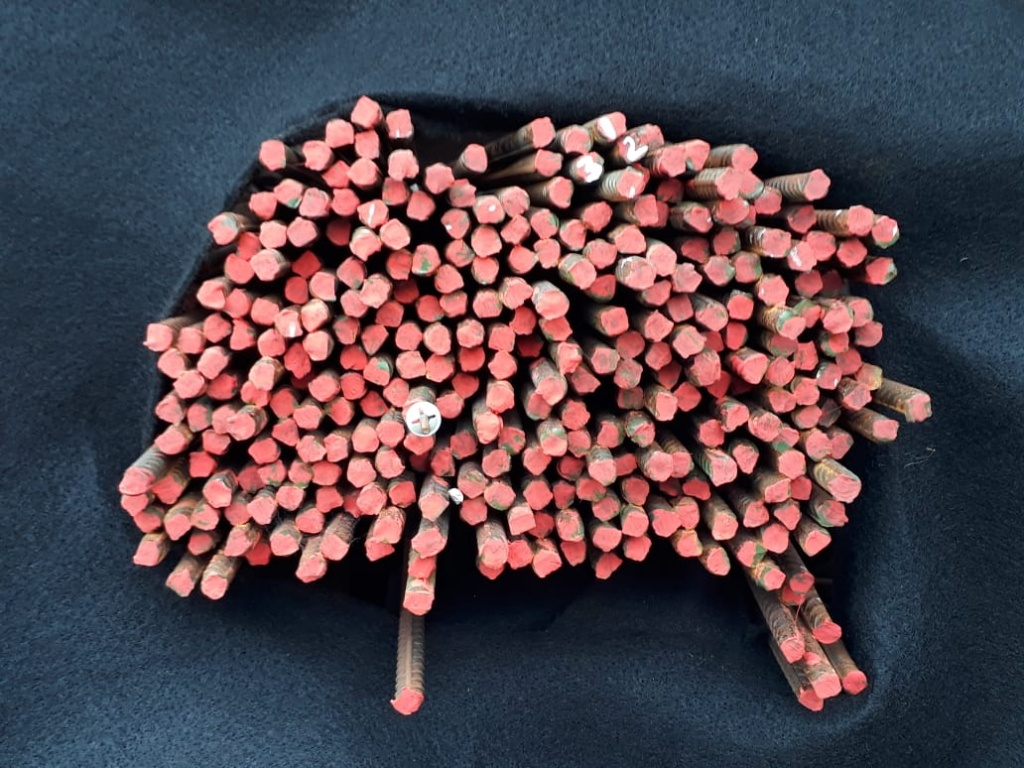dipstick: (620, 257, 656, 288), (694, 299, 728, 331), (617, 129, 649, 162), (690, 348, 720, 383), (349, 227, 379, 260), (470, 225, 501, 256), (646, 244, 677, 275), (805, 230, 836, 261), (299, 187, 331, 217), (411, 530, 446, 557), (387, 149, 417, 180), (536, 290, 569, 318), (284, 342, 311, 376), (715, 197, 749, 224), (303, 140, 333, 170), (225, 254, 255, 284), (538, 375, 568, 405), (302, 331, 333, 360), (613, 358, 642, 389), (674, 327, 705, 356), (295, 554, 327, 582), (759, 229, 791, 257), (873, 216, 900, 249), (828, 475, 861, 502), (274, 179, 304, 208), (208, 214, 237, 244), (361, 278, 390, 308), (197, 349, 227, 378), (325, 396, 355, 425), (424, 163, 453, 193), (420, 492, 450, 521), (523, 480, 552, 510), (498, 425, 527, 455), (651, 508, 681, 537), (758, 277, 788, 306), (765, 356, 794, 386), (381, 219, 409, 250), (457, 470, 488, 498), (556, 510, 584, 541), (501, 217, 532, 245), (823, 305, 854, 333), (309, 375, 341, 402), (540, 316, 573, 342), (322, 160, 351, 189), (485, 384, 514, 413), (509, 305, 538, 334), (626, 417, 655, 446), (352, 96, 380, 126), (358, 199, 388, 227), (347, 457, 375, 487), (375, 450, 405, 478), (474, 195, 504, 223), (588, 238, 616, 268), (719, 403, 749, 431), (704, 256, 734, 284), (734, 251, 762, 281), (837, 239, 867, 267), (301, 299, 328, 330), (174, 371, 205, 398), (424, 323, 451, 354), (840, 382, 871, 409), (716, 168, 742, 200), (326, 118, 354, 147), (287, 218, 316, 246), (203, 314, 232, 342), (158, 349, 186, 378), (154, 476, 183, 504), (223, 497, 251, 526), (357, 487, 386, 515), (434, 265, 463, 293), (533, 549, 562, 577), (562, 401, 590, 430), (529, 209, 558, 237), (534, 149, 563, 177), (575, 153, 604, 181), (583, 202, 611, 231), (598, 112, 626, 141), (646, 452, 674, 481), (787, 241, 816, 269), (777, 449, 805, 478), (772, 502, 801, 530), (259, 139, 286, 169), (337, 258, 364, 288), (226, 413, 256, 440), (339, 343, 369, 370), (617, 167, 644, 197), (616, 227, 646, 254), (508, 246, 539, 272), (248, 438, 280, 463), (155, 429, 187, 454), (363, 323, 388, 355), (633, 194, 658, 226), (247, 497, 275, 525), (425, 353, 453, 381), (489, 350, 517, 378), (524, 446, 552, 474), (565, 126, 593, 154), (673, 263, 701, 291), (793, 299, 821, 327), (385, 109, 412, 138), (257, 329, 286, 356), (412, 245, 439, 274), (407, 191, 434, 220), (442, 209, 469, 238), (396, 351, 425, 378), (457, 318, 484, 347), (557, 452, 584, 481), (473, 290, 502, 317), (740, 355, 767, 384), (867, 257, 896, 284), (754, 413, 781, 442), (250, 254, 280, 280), (240, 381, 270, 407), (165, 570, 195, 596), (383, 378, 409, 408), (503, 186, 529, 216), (804, 169, 830, 199), (767, 332, 797, 358), (120, 469, 151, 494), (311, 461, 342, 486), (484, 484, 515, 509), (685, 140, 710, 171), (848, 205, 873, 236), (531, 117, 555, 149), (676, 496, 699, 529), (249, 192, 277, 219), (340, 290, 368, 317), (270, 390, 297, 418), (272, 419, 299, 447), (203, 480, 231, 507), (377, 421, 405, 448), (395, 323, 422, 351), (482, 450, 510, 477), (569, 260, 596, 288), (597, 420, 625, 447), (762, 524, 789, 552), (788, 204, 815, 232), (292, 251, 321, 277), (196, 282, 225, 308), (230, 321, 256, 350), (476, 415, 502, 444), (570, 367, 599, 393), (560, 220, 586, 249), (733, 444, 759, 473), (819, 329, 848, 355), (224, 289, 249, 319), (269, 531, 299, 556), (386, 250, 411, 280), (503, 283, 533, 308), (739, 169, 764, 199), (622, 536, 652, 561), (333, 316, 360, 343), (360, 389, 387, 416), (472, 256, 499, 283), (685, 204, 712, 231), (645, 313, 672, 340), (726, 293, 753, 320), (792, 377, 819, 404), (260, 220, 286, 248), (325, 217, 351, 245), (146, 323, 172, 351), (321, 534, 349, 560), (297, 435, 325, 461), (390, 479, 416, 507), (416, 295, 444, 321), (541, 428, 567, 456), (712, 228, 740, 254), (600, 308, 628, 334), (616, 331, 644, 357), (588, 459, 616, 485), (622, 510, 648, 538), (621, 478, 649, 504), (674, 382, 700, 410), (646, 342, 672, 370), (776, 310, 804, 336), (348, 159, 377, 184), (311, 272, 336, 301), (156, 398, 185, 423), (225, 532, 254, 557), (295, 508, 324, 533), (558, 343, 583, 372), (657, 360, 682, 389), (549, 177, 573, 207), (402, 432, 434, 454), (332, 188, 359, 214), (316, 486, 343, 512), (237, 466, 263, 493), (259, 460, 286, 486), (352, 426, 378, 453), (376, 301, 403, 327), (446, 240, 473, 266), (452, 372, 479, 398), (592, 347, 619, 373), (592, 497, 619, 523), (594, 552, 620, 579), (710, 458, 736, 485), (795, 271, 822, 297), (856, 363, 882, 390), (904, 393, 931, 419), (806, 529, 832, 556), (235, 232, 260, 260), (177, 328, 205, 353), (207, 373, 235, 398), (293, 404, 321, 429), (364, 357, 389, 385), (439, 291, 467, 316), (395, 689, 423, 714), (508, 510, 536, 535), (656, 178, 684, 203), (577, 477, 605, 502), (854, 320, 882, 345), (806, 431, 830, 460), (810, 673, 840, 696), (251, 297, 277, 323), (276, 310, 302, 336), (374, 518, 400, 544), (393, 278, 419, 304), (437, 393, 463, 419), (699, 420, 725, 446), (382, 177, 407, 204), (192, 504, 219, 529), (451, 432, 476, 459), (508, 540, 533, 567), (461, 500, 488, 525), (559, 540, 586, 565), (661, 149, 686, 176), (737, 541, 764, 566), (816, 362, 841, 389), (355, 131, 379, 159), (202, 429, 230, 453), (324, 433, 348, 461), (593, 526, 621, 550), (817, 501, 845, 525), (464, 143, 487, 172), (654, 392, 677, 421), (404, 593, 434, 615), (726, 320, 748, 350), (819, 398, 841, 428), (249, 364, 274, 390), (188, 452, 214, 477), (341, 373, 366, 399), (449, 180, 475, 205), (756, 187, 781, 213), (591, 274, 616, 300), (668, 295, 693, 321), (284, 276, 308, 303), (201, 575, 228, 599), (458, 347, 485, 371), (529, 511, 553, 538), (527, 393, 551, 420), (534, 239, 558, 266), (682, 237, 709, 261), (742, 503, 769, 527), (643, 280, 670, 304), (794, 342, 818, 369), (773, 427, 800, 451), (552, 480, 575, 508), (165, 515, 190, 540), (482, 541, 507, 566), (836, 348, 861, 373), (187, 405, 211, 431), (431, 450, 455, 476), (489, 327, 515, 351), (733, 143, 757, 169), (677, 530, 701, 556), (277, 486, 304, 509), (850, 298, 873, 325), (794, 405, 821, 428), (121, 493, 149, 515), (187, 531, 215, 553), (366, 539, 395, 560), (515, 335, 544, 356), (212, 404, 232, 434), (712, 514, 736, 539), (707, 371, 731, 396), (769, 388, 795, 411), (682, 478, 710, 499), (813, 622, 841, 643), (246, 541, 270, 565), (288, 461, 312, 485), (781, 638, 804, 663), (760, 568, 786, 590), (707, 547, 728, 574), (135, 542, 159, 565), (831, 434, 853, 459), (408, 558, 436, 577), (613, 454, 637, 476), (765, 480, 790, 501), (134, 512, 160, 532), (821, 267, 843, 290), (790, 571, 813, 593), (618, 388, 643, 408), (672, 451, 692, 476), (844, 672, 866, 694), (789, 477, 810, 499), (874, 419, 897, 439), (799, 690, 822, 710), (781, 586, 804, 605)
